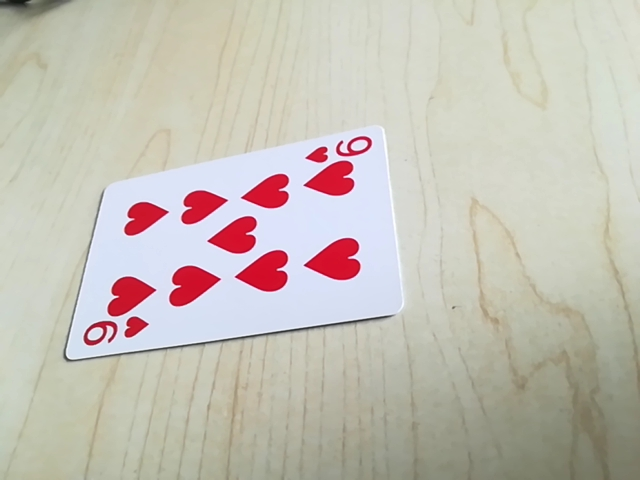hx 9: (78, 316, 149, 353), (305, 131, 376, 163)
